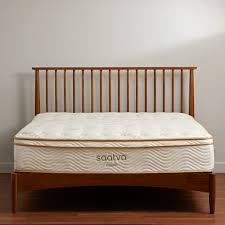bed-matress: (13, 112, 217, 175)
